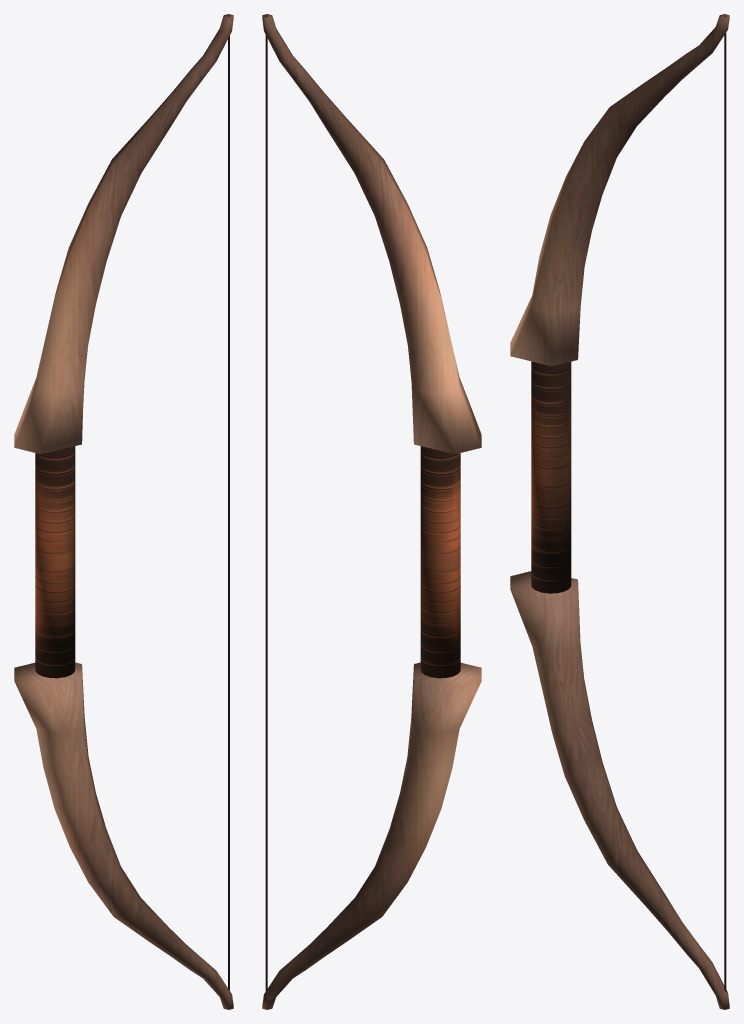
The model's file is bow_forestkeeper_s bow.FBX.
The picture shows the model from 3 angles, left to right: view 1: azimuth 30°, elevation 25°; view 2: azimuth 150°, elevation 25°; view 3: azimuth 330°, elevation 25°; orthographic projection.
Visible parts, largest first — view 1: Cylinder003; view 2: Cylinder003; view 3: Cylinder003.
Part boxes in pixels (x1,y1,x2,y2): Cylinder003: (14,14,233,1009); Cylinder003: (262,14,481,1009); Cylinder003: (510,14,729,1009).
Bounding box in the file's own units: 32.65 × 141 × 6.89.
1 material, 1 textured.
